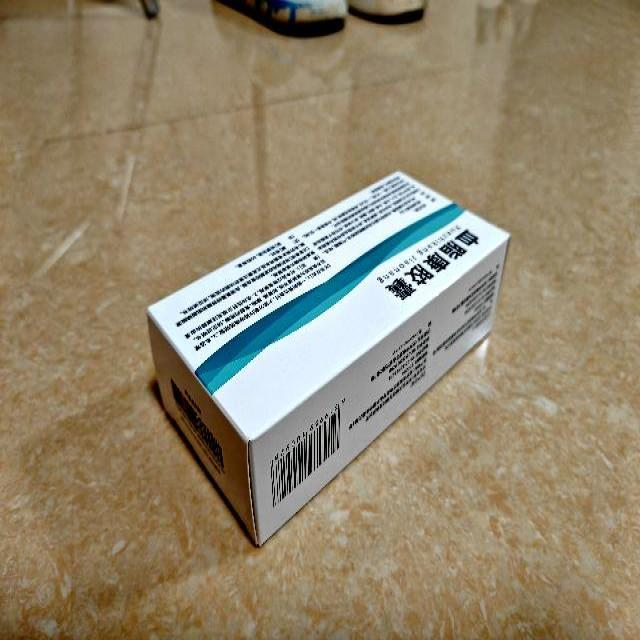box: (145, 168, 513, 548)
